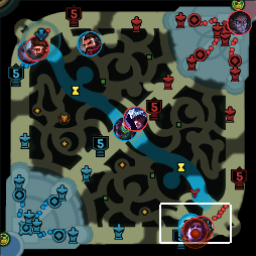akali: (112, 117, 136, 140)
graves: (77, 29, 102, 56)
monkeyking: (24, 36, 49, 58)
poppy: (16, 40, 39, 65)
sylas: (227, 10, 251, 34)
talon: (122, 104, 146, 130)
taric: (181, 217, 207, 244)
